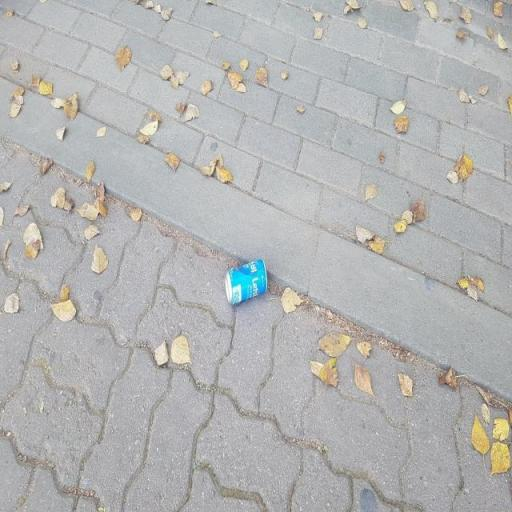metal: (214, 247, 272, 314)
